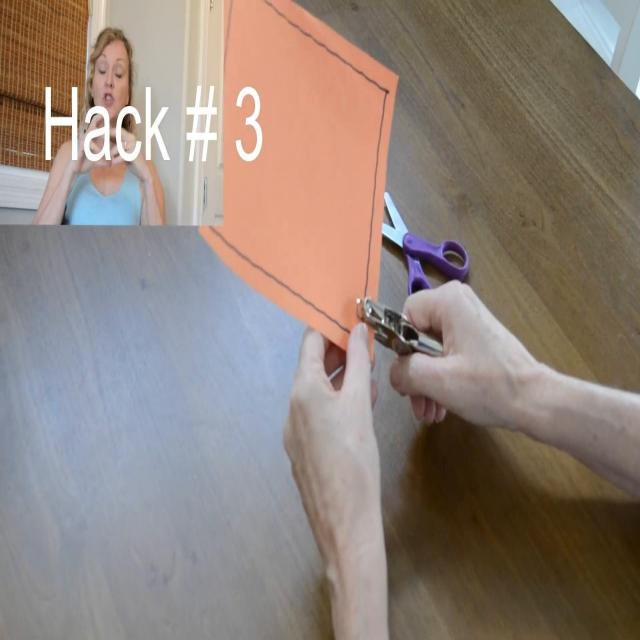scissor: (380, 191, 469, 298)
